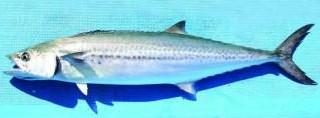fish: (1, 21, 317, 95)
